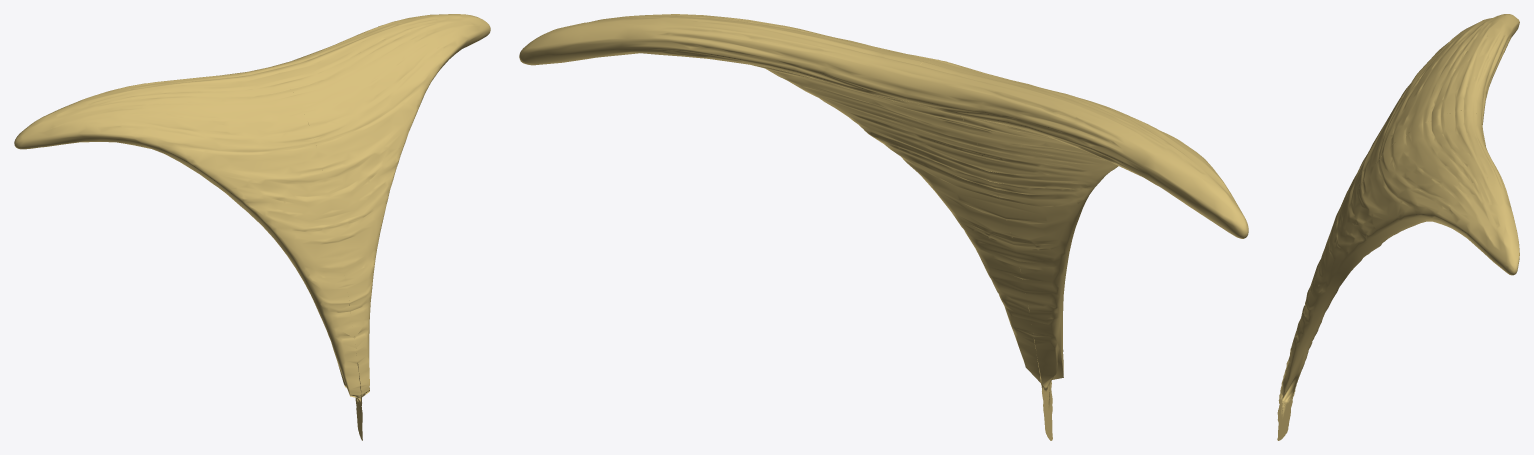
3 views of the same model, side by side, from view 1: azimuth 30°, elevation 25°; view 2: azimuth 150°, elevation 25°; view 3: azimuth 270°, elevation 25° (orthographic). The views are drawn at different scales.
Parts seen in each view (by area): view 1: 海马连合; view 2: 海马连合; view 3: 海马连合.
Boxes of the visible parts, x1=… form: 海马连合: x1=14, y1=14, x2=490, y2=440; 海马连合: x1=519, y1=14, x2=1248, y2=440; 海马连合: x1=1277, y1=14, x2=1519, y2=440.
Bounding box in the file's own units: 0.0702 × 0.0442 × 0.0291.
